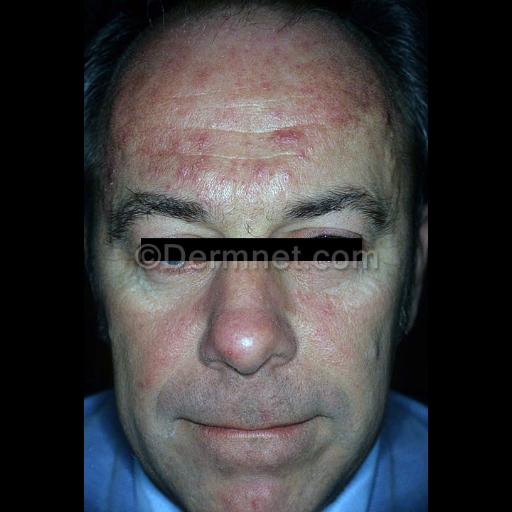Skin_Lesion: (268, 54, 354, 124), (140, 129, 220, 183), (128, 54, 188, 114), (153, 308, 191, 346), (260, 128, 310, 156), (232, 486, 266, 510), (194, 64, 210, 90), (256, 163, 276, 183), (227, 40, 239, 64), (118, 128, 132, 148), (140, 370, 150, 396)
